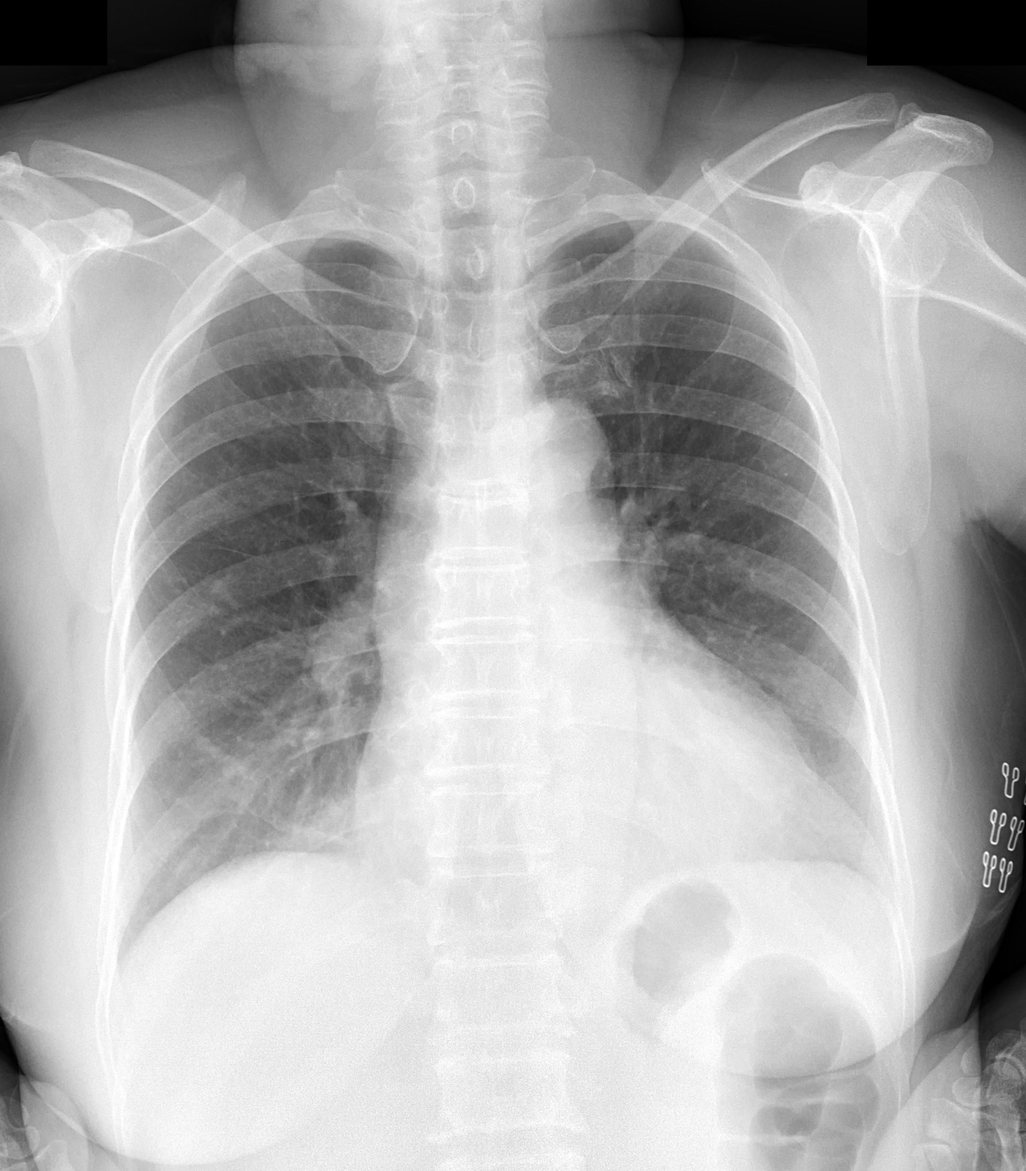Aortic enlargement: (477, 399, 617, 520)
Cardiomegaly: (343, 725, 819, 899)
Pleural thickening: (540, 219, 644, 244), (264, 230, 367, 252)
